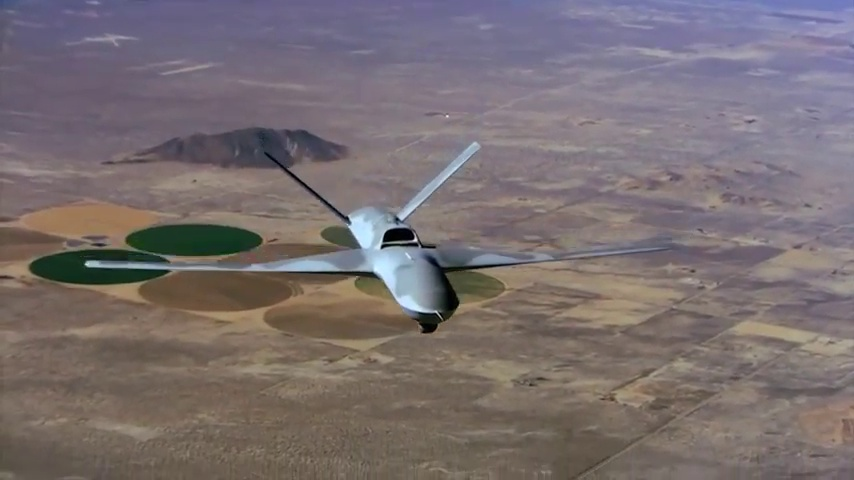military drone: (82, 141, 671, 333)
